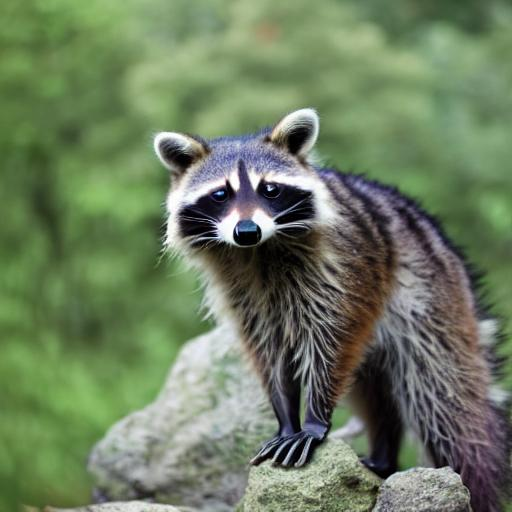raccoon: (140, 99, 512, 419)
